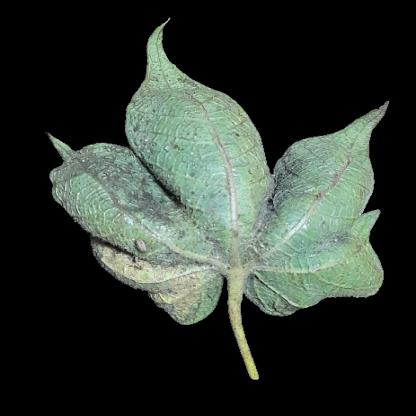curl_stage2: (157, 94, 254, 185), (190, 190, 279, 274), (273, 212, 348, 292), (318, 143, 365, 213)
sooty: (83, 153, 171, 215)
